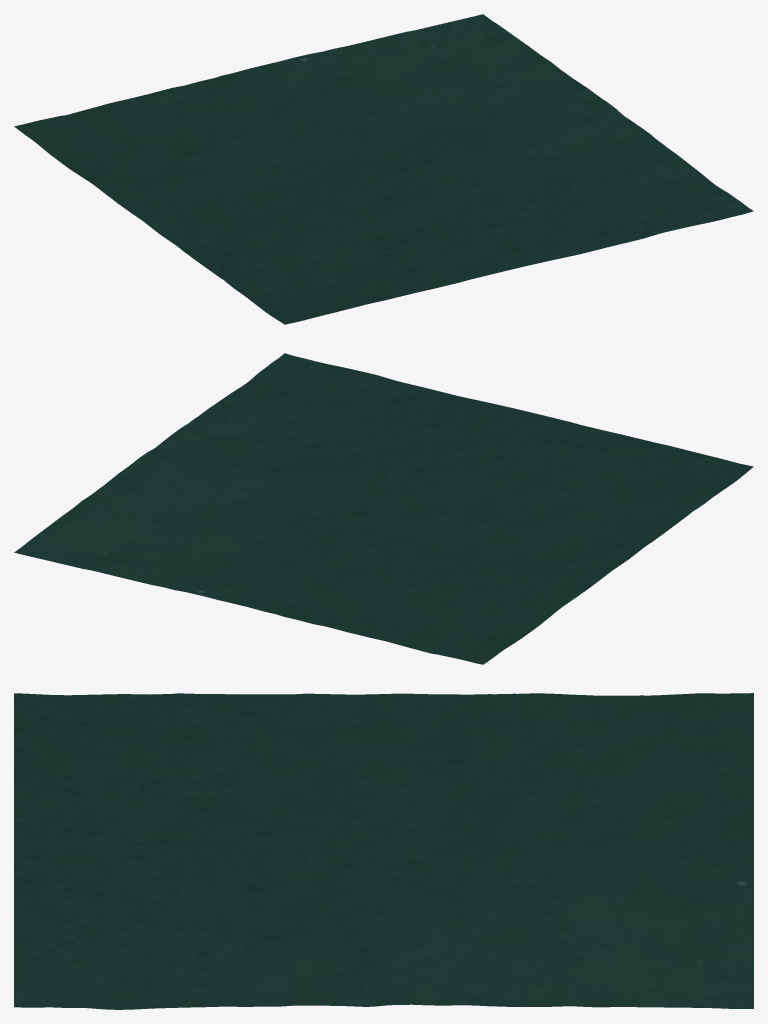
3 renders of one model, top to bottom at view 1: azimuth 30°, elevation 25°; view 2: azimuth 150°, elevation 25°; view 3: azimuth 270°, elevation 25°, orthographic. The views are drawn at different scales.
Size of the model in its own units: 104 by 0.8822 by 104.
Materials: 2 (2 with a texture image).
